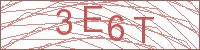3: (54, 8, 75, 37)
6: (107, 14, 125, 42)
E: (81, 4, 106, 34)
T: (130, 15, 157, 46)
